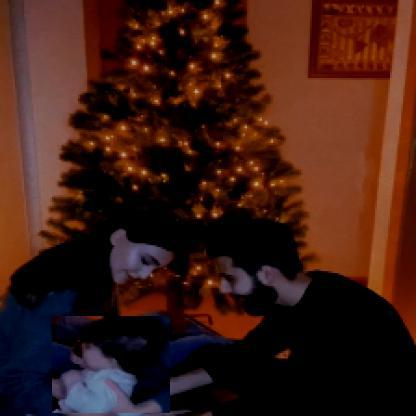child: (53, 317, 172, 415)
